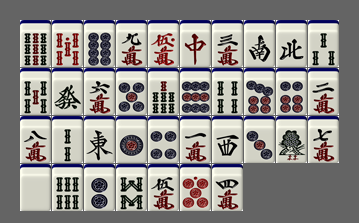0m: (148, 20, 179, 67)
0p: (180, 164, 211, 211)
0s: (52, 20, 83, 67)
1m: (180, 116, 211, 163)
1p: (116, 116, 147, 163)
1s: (276, 116, 307, 163)
1z: (84, 116, 115, 163)
2m: (308, 68, 339, 115)
2p: (84, 164, 115, 211)
2s: (52, 116, 83, 163)
2z: (244, 20, 275, 67)
3m: (212, 20, 243, 67)
3p: (244, 116, 275, 163)
3s: (308, 20, 339, 67)
3z: (212, 116, 243, 163)
4m: (212, 164, 243, 211)
4p: (148, 116, 179, 163)
4s: (212, 68, 243, 115)
4z: (276, 20, 307, 67)
5m: (148, 164, 179, 211)
5p: (116, 68, 147, 115)
5s: (20, 68, 51, 115)
5z: (20, 164, 51, 211)
6m: (84, 68, 115, 115)
6p: (276, 68, 307, 115)
6s: (52, 164, 83, 211)
6z: (52, 68, 83, 115)
7m: (308, 116, 339, 163)
7p: (244, 68, 275, 115)
7s: (148, 68, 179, 115)
7z: (180, 20, 211, 67)
8m: (20, 116, 51, 163)
8p: (84, 20, 115, 67)
8s: (116, 164, 147, 211)
9m: (116, 20, 147, 67)
9p: (180, 68, 211, 115)
9s: (20, 20, 51, 67)
